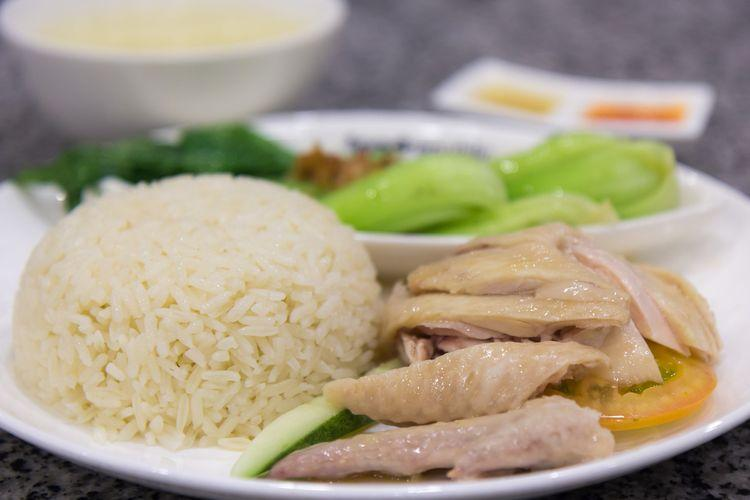daging: (433, 273, 540, 450)
makanan_berpati: (76, 214, 318, 367)
